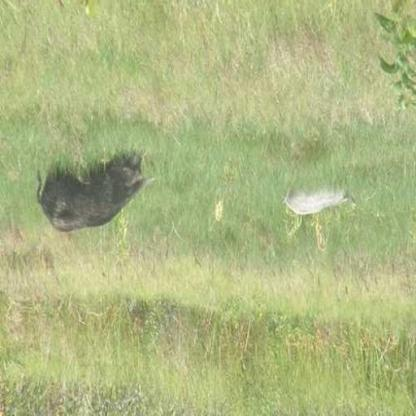boar: (5, 155, 154, 236)
